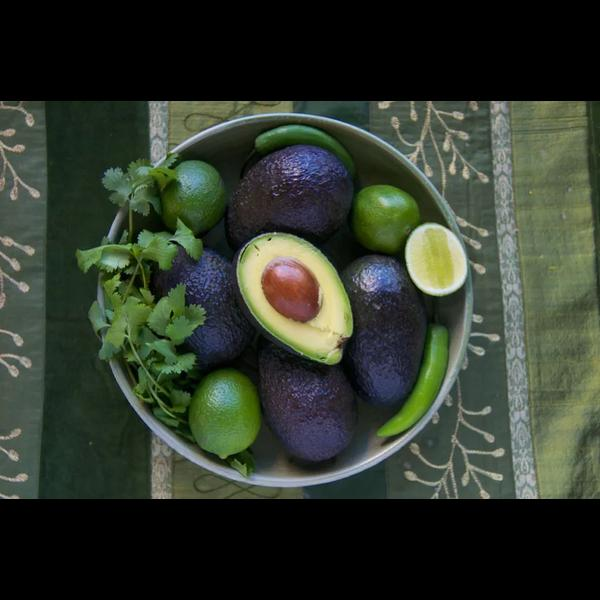ripe: (339, 254, 427, 412), (225, 144, 353, 252), (150, 245, 251, 368), (258, 341, 359, 464)
